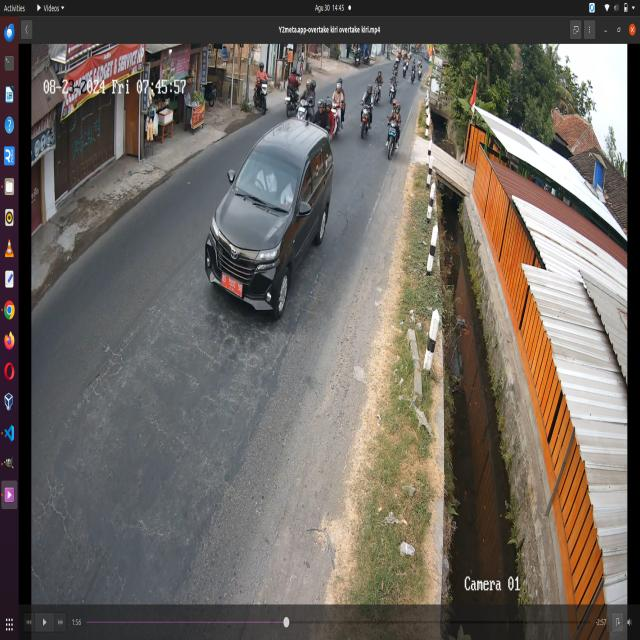person_with_seatbelt: (247, 149, 280, 197)
person_without_seatbelt: (280, 165, 309, 223)
